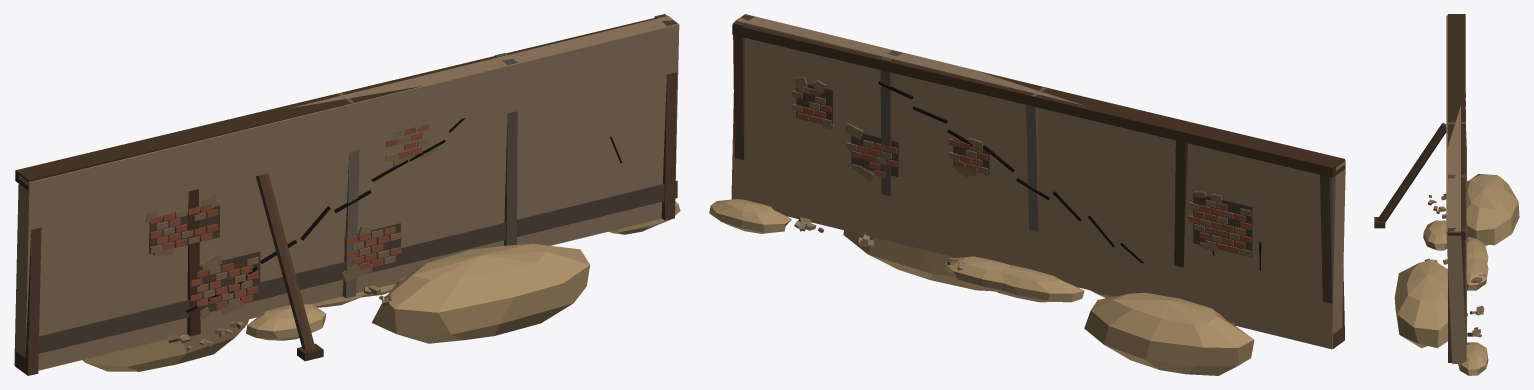
Rendered from TownWallC.glb.
The picture shows the model from 3 angles, left to right: view 1: azimuth 30°, elevation 25°; view 2: azimuth 150°, elevation 25°; view 3: azimuth 270°, elevation 25°; orthographic projection. The views are drawn at different scales.
Visible parts, largest first — view 1: TownWallC.001; view 2: TownWallC.001; view 3: TownWallC.001.
Boxes of the visible parts, x1,y1,x2,y2 form: TownWallC.001: (14, 14, 680, 375); TownWallC.001: (709, 14, 1345, 375); TownWallC.001: (1374, 14, 1519, 375).
Size of the model in its own units: 14.39 by 5.12 by 3.97.
